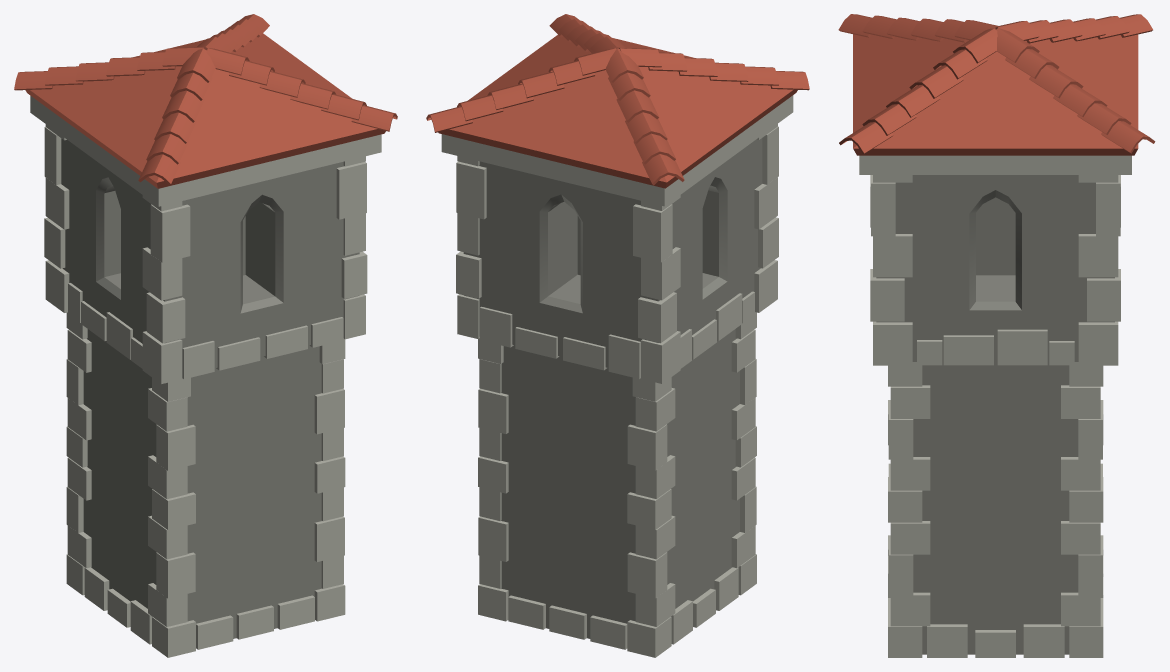
The model's file is WatchTower_SecondAge_Level1.fbx.
3 renders of one model, left to right at view 1: azimuth 30°, elevation 25°; view 2: azimuth 150°, elevation 25°; view 3: azimuth 270°, elevation 25°, orthographic. The views are drawn at different scales.
Visible parts, largest first — view 1: WatchTower_SecondAge_Level1, WatchTower_SecondAge_Level1.002; view 2: WatchTower_SecondAge_Level1, WatchTower_SecondAge_Level1.001; view 3: WatchTower_SecondAge_Level1.
Part boxes in pixels (bbox=[...]): WatchTower_SecondAge_Level1: bbox=[14, 14, 397, 657]; WatchTower_SecondAge_Level1.002: bbox=[236, 605, 273, 639]; WatchTower_SecondAge_Level1: bbox=[426, 14, 809, 657]; WatchTower_SecondAge_Level1.001: bbox=[549, 605, 586, 639]; WatchTower_SecondAge_Level1: bbox=[838, 14, 1155, 657].
Size of the model in its own units: 58.52 by 119 by 58.3.
